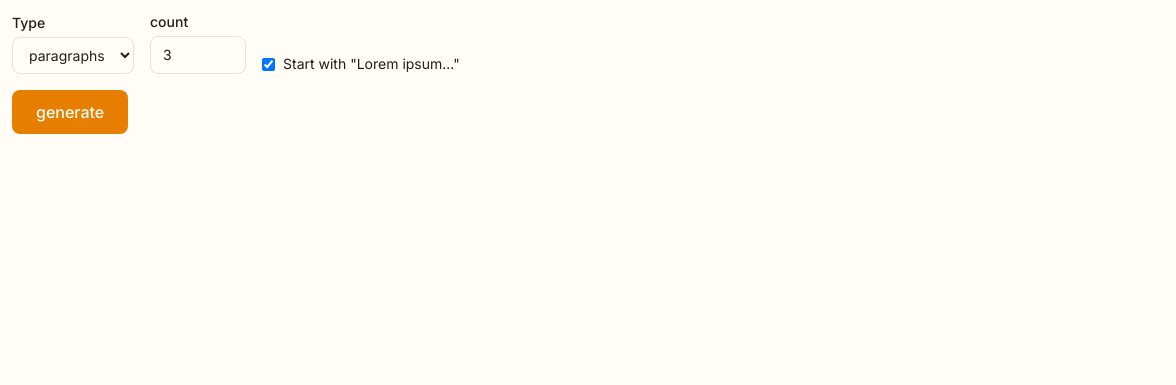
Scenario: LoremIpsum › generates lorem ipsum text when Generate is clicked
Click the button "generate" at (70, 112), box [12,90,128,134]
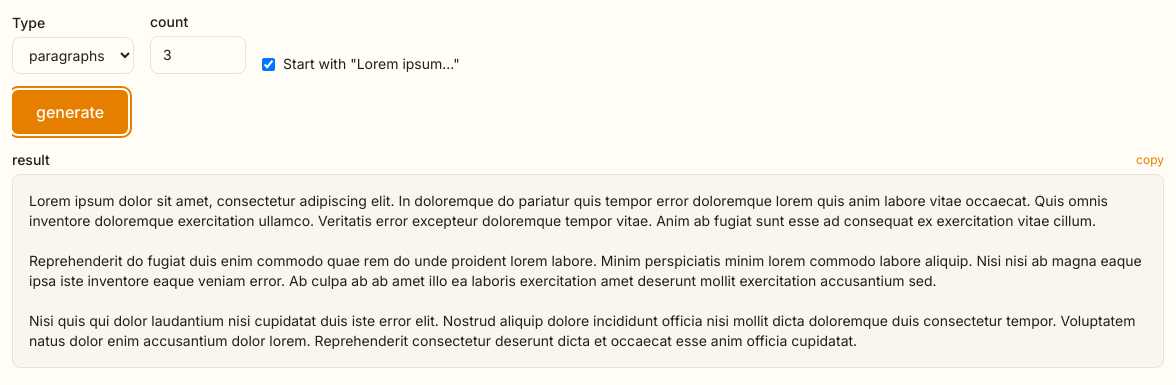
Check: the text "result" is shown, box [12,150,50,170]
